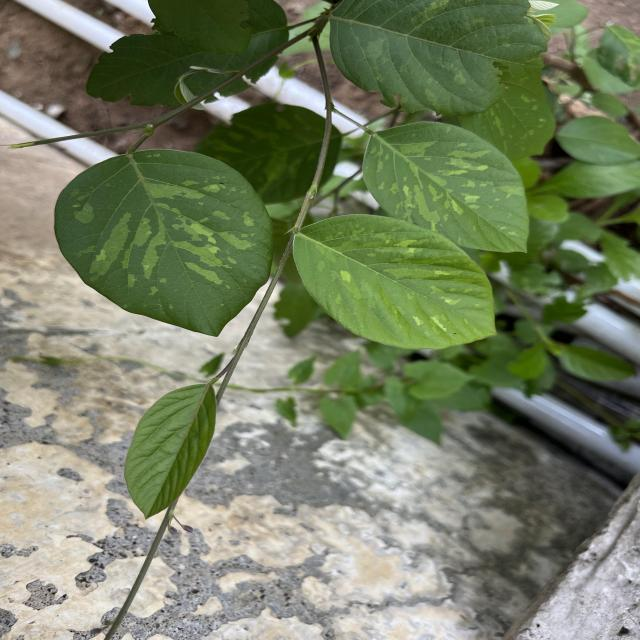Desmodium gangeticum: (51, 146, 280, 340), (288, 210, 504, 352)
